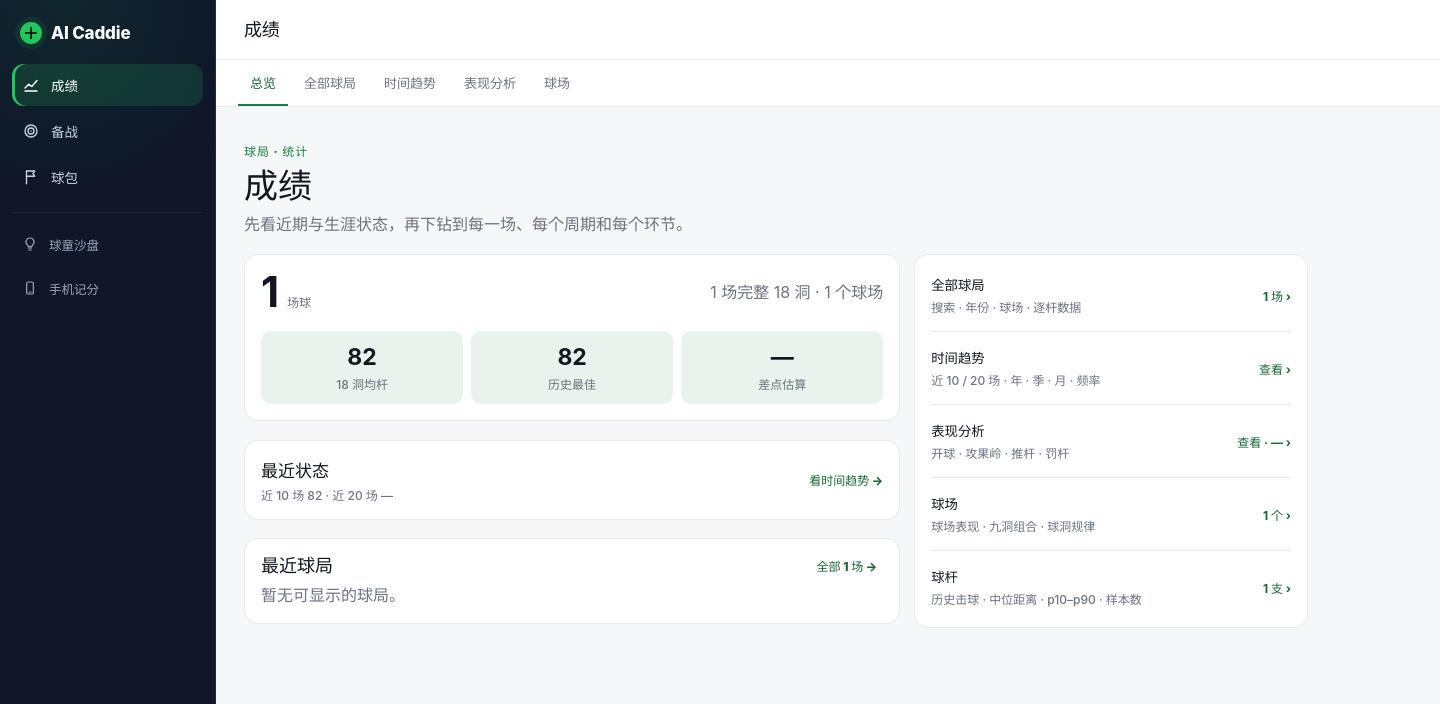
App navigation › navigates through the unified results trends and analysis pages
The image size is (1440, 704).
Expected: the 1st heading "成绩" is shown, [244,20,280,39]
Click the button "时间趋势".
click(410, 83)  # box [372,60,448,106]
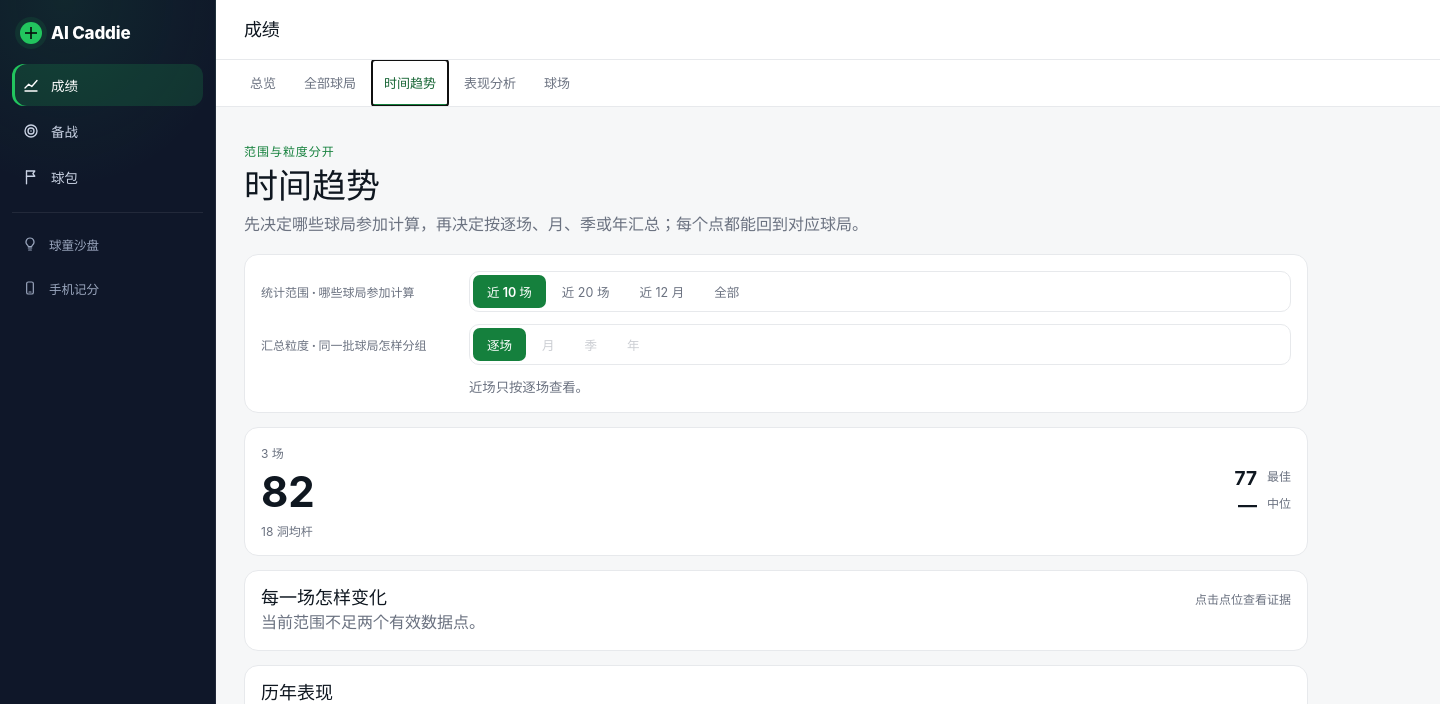
Result: the heading "时间趋势" is shown at [244,165,380,206]
Click the button "表现分析".
click(490, 83)  # box [452,60,528,106]
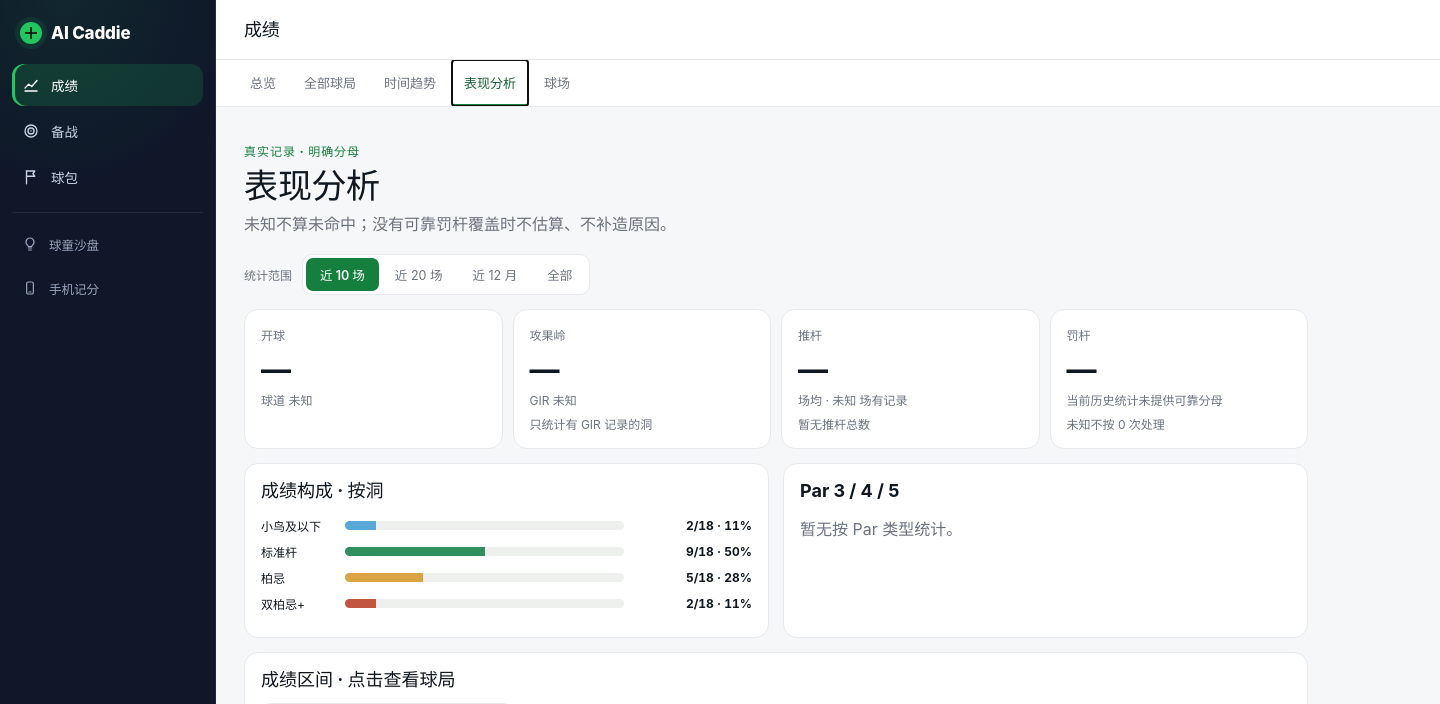
Result: the heading "表现分析" is shown at [244,165,380,206]
Result: the text "开球" is shown at [261,328,285,343]
Result: the text "攻果岭" is shown at [530,328,566,343]
